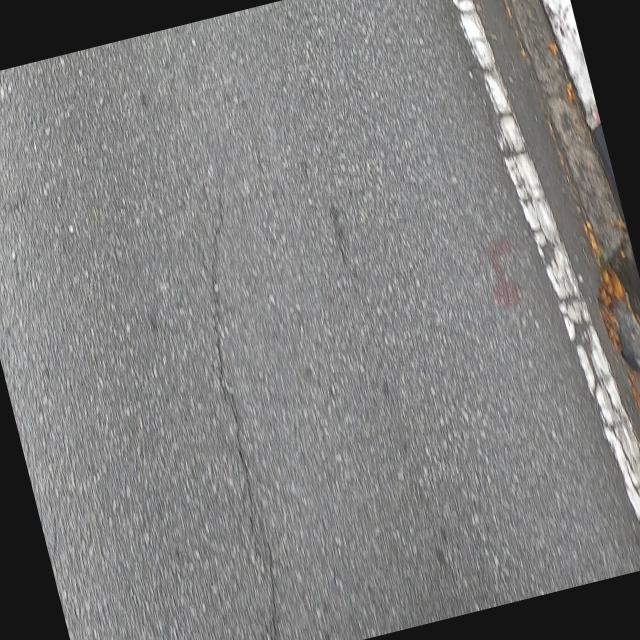Retak-Memanjang: (208, 184, 281, 640)
